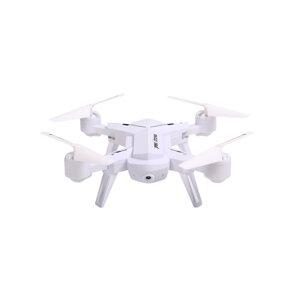drone: (56, 91, 240, 211)
